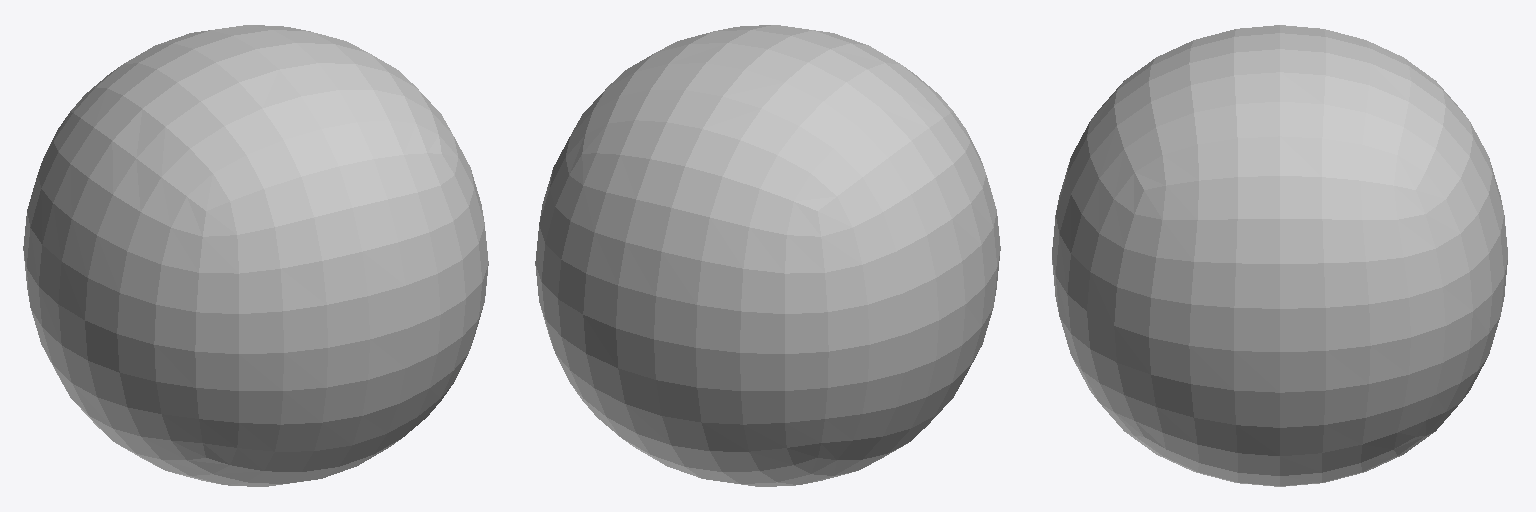
Rendered from sphere_smooth.obj.
3 views of the same model, side by side, from view 1: azimuth 30°, elevation 25°; view 2: azimuth 150°, elevation 25°; view 3: azimuth 270°, elevation 25° (orthographic).
Visible parts, largest first — view 1: Sphere_Cube; view 2: Sphere_Cube; view 3: Sphere_Cube.
Boxes of the visible parts, x1=… form: Sphere_Cube: x1=23, y1=25, x2=488, y2=486; Sphere_Cube: x1=535, y1=25, x2=1000, y2=486; Sphere_Cube: x1=1052, y1=25, x2=1507, y2=486.
Bounding box in the file's own units: 1.68 × 1.68 × 1.68.